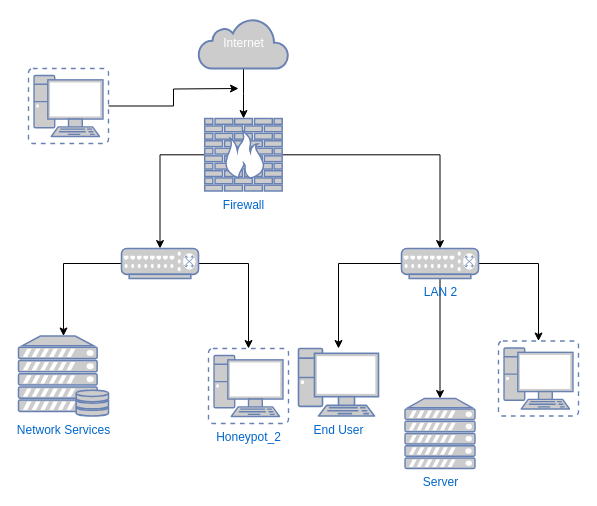
This 597x506 diagram has some shape labels left out. The shapes that lost their labels are listed below. From the top down, each one's centre as x and y in pixels, then its label:
At pixel 68 105: "Honeypot_1".
At pixel 159 263: "LAN 1".
At pixel 538 378: "Honeypot_3".
